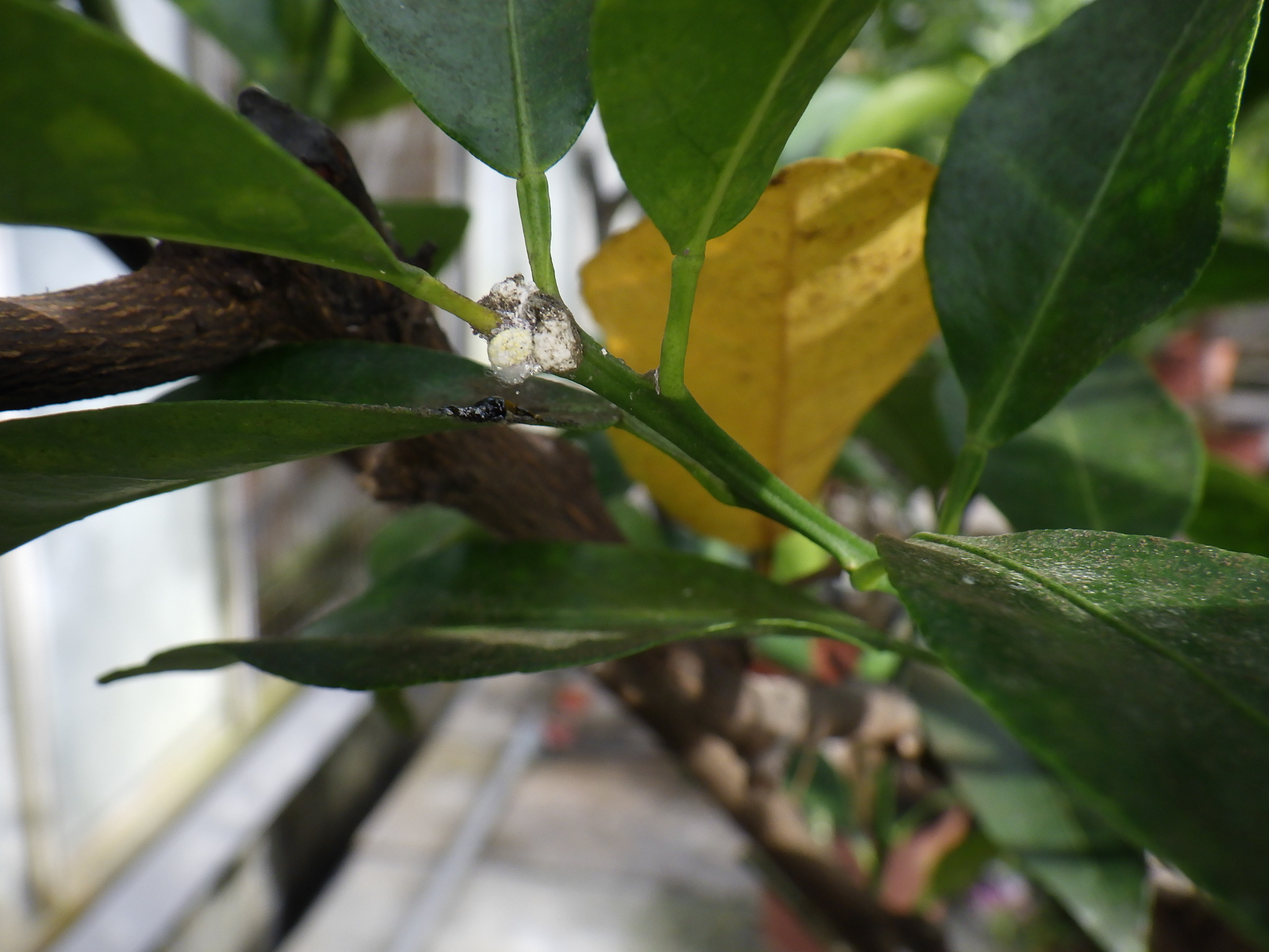Scale_Insect: (488, 328, 570, 370)
